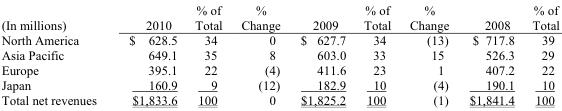table: (0, 0, 558, 107)
table column: (0, 0, 112, 107), (112, 0, 185, 107), (289, 0, 354, 107), (458, 0, 522, 107), (399, 0, 458, 107), (231, 0, 289, 107), (185, 0, 231, 107), (354, 0, 399, 107), (522, 0, 558, 107)
table column header: (0, 0, 558, 31)
table row: (0, 0, 558, 31), (0, 31, 558, 47), (0, 91, 558, 107), (0, 47, 558, 62), (0, 76, 558, 91), (0, 62, 558, 76)
